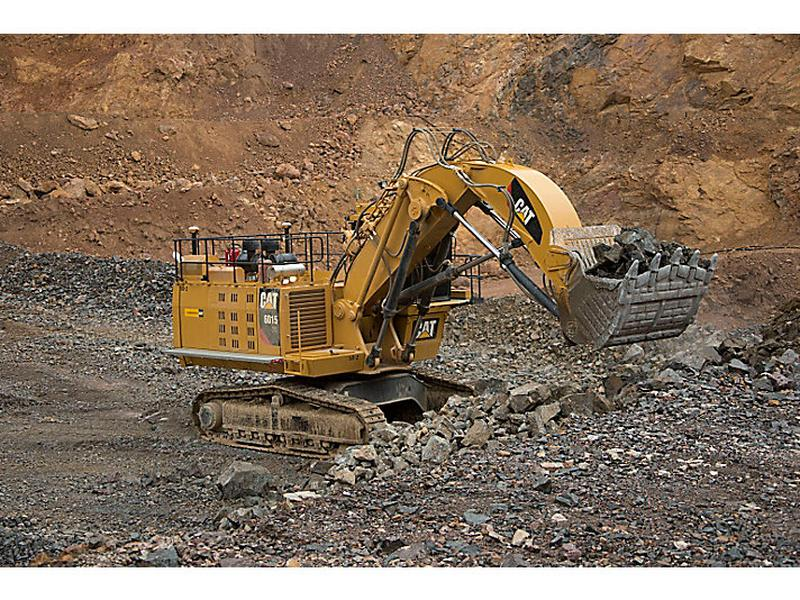shovel: (162, 129, 717, 463)
